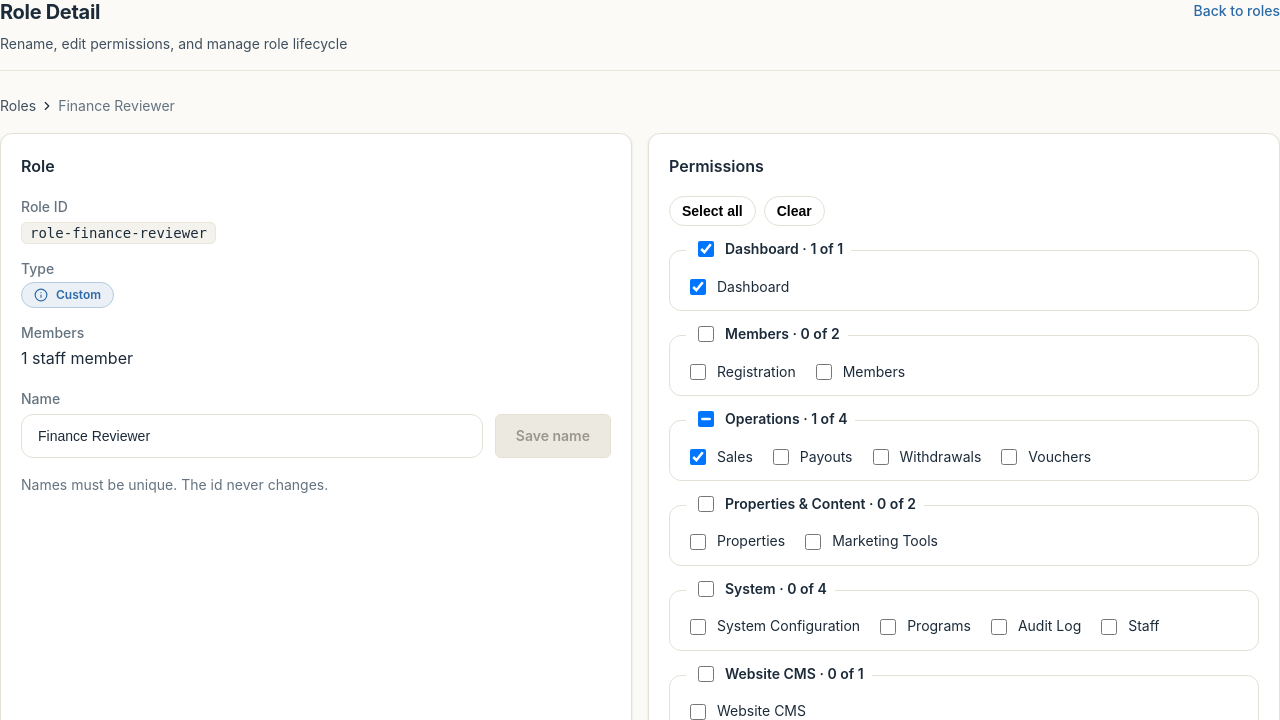
Test: RoleDetailPage › selects all modules via the global action
Click the button with aria-label "Select all modules": (712, 211) x1=669 y1=196 x2=756 y2=226
(page scrolled)
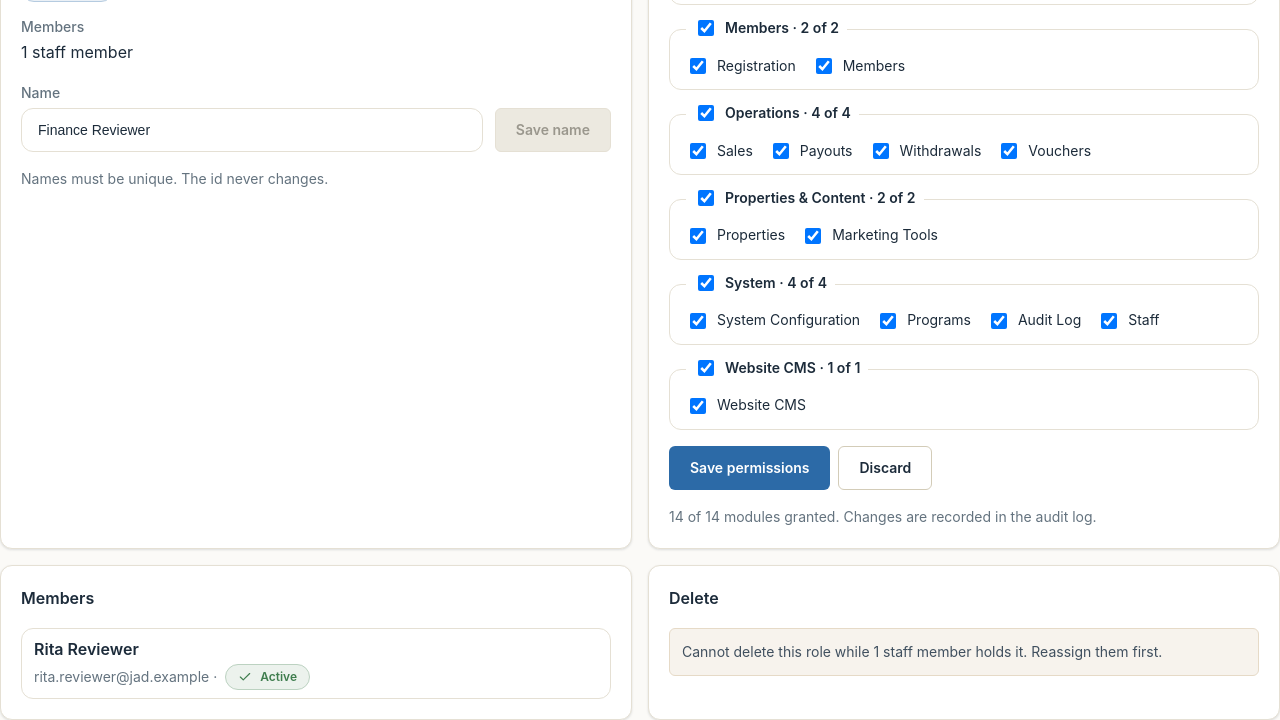
Expected: the element "Operations · 4 of 4 Sales Payouts Withdrawals Vouchers" is shown, x1=669 y1=102 x2=1259 y2=175
Expected: the button "Save permissions" is enabled, x1=669 y1=446 x2=830 y2=490
